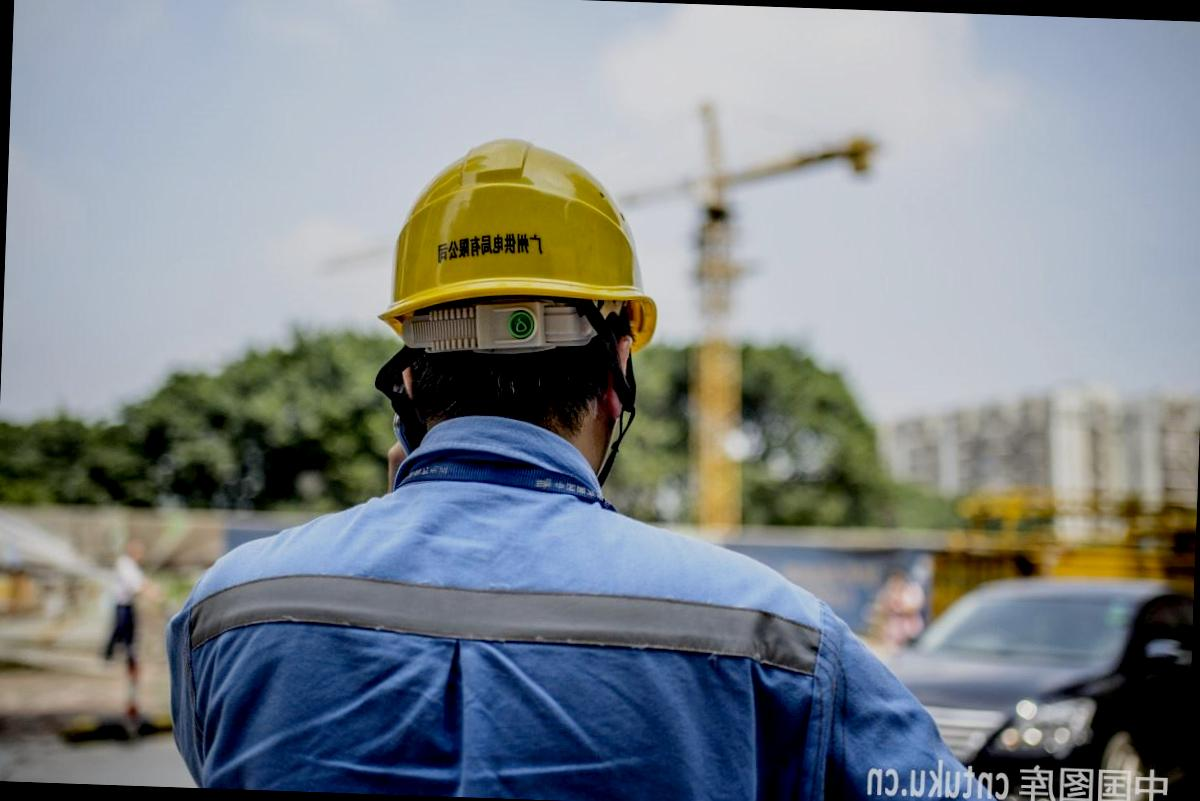helmet: (375, 136, 667, 338)
no_vest: (167, 412, 821, 801)
person: (151, 117, 838, 801)
